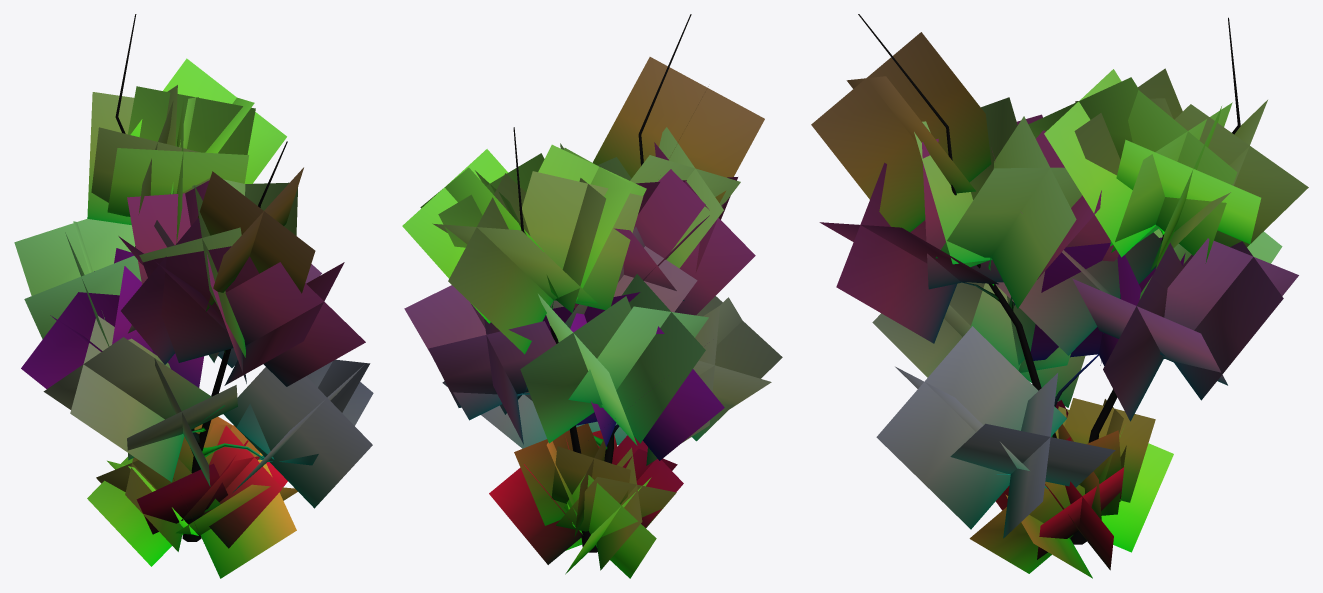
Rendered from URP_P12_Tree_5_LOD_3.fbx.
The picture shows the model from 3 angles, left to right: view 1: azimuth 30°, elevation 25°; view 2: azimuth 150°, elevation 25°; view 3: azimuth 270°, elevation 25°; orthographic projection. The views are drawn at different scales.
Parts seen in each view (by area): view 1: Tree_5_LOD_3; view 2: Tree_5_LOD_3; view 3: Tree_5_LOD_3.
Boxes of the visible parts, x1,y1,x2,y2 form: Tree_5_LOD_3: (14, 14, 373, 578); Tree_5_LOD_3: (402, 14, 782, 578); Tree_5_LOD_3: (811, 14, 1308, 578).
Bounding box in the file's own units: 188 × 281 × 227.
